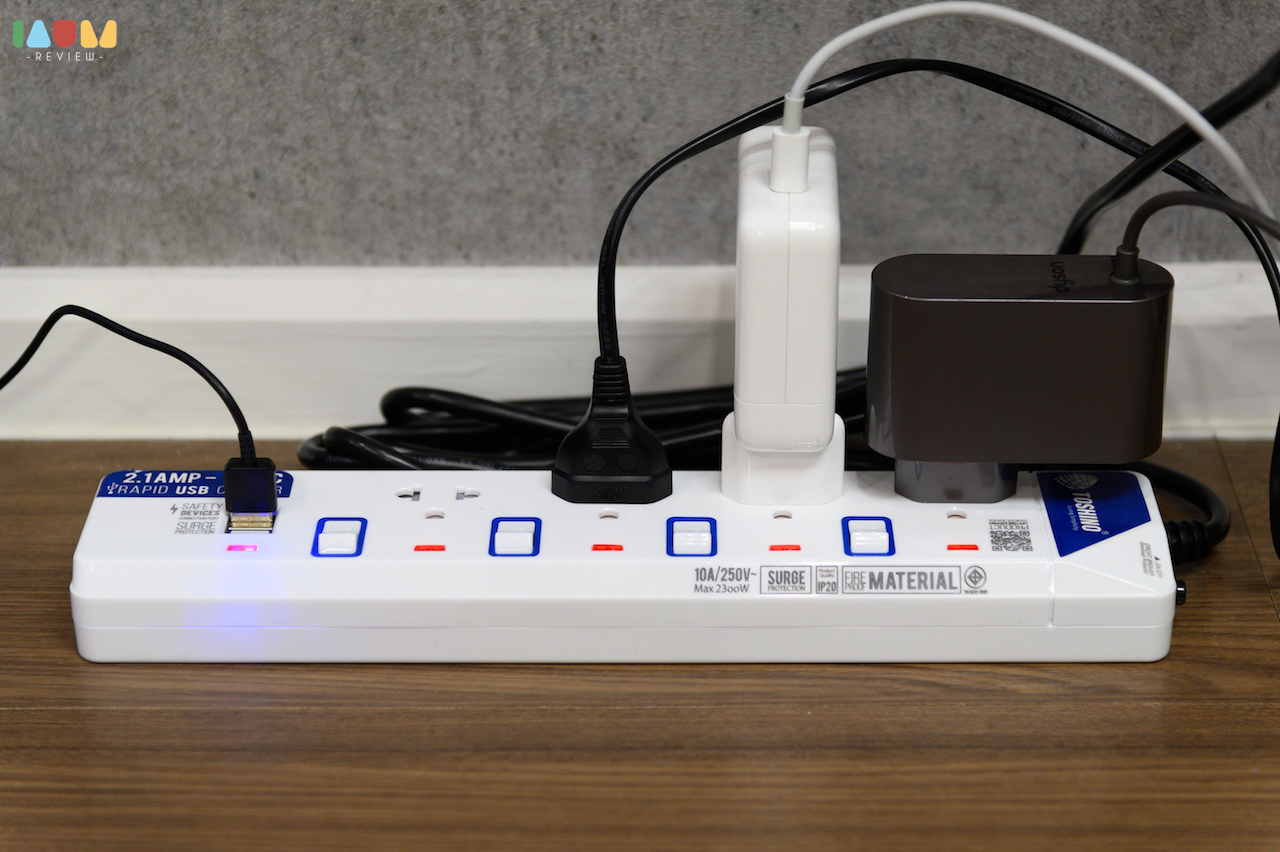Three_eye_plug: (60, 453, 1193, 675)
